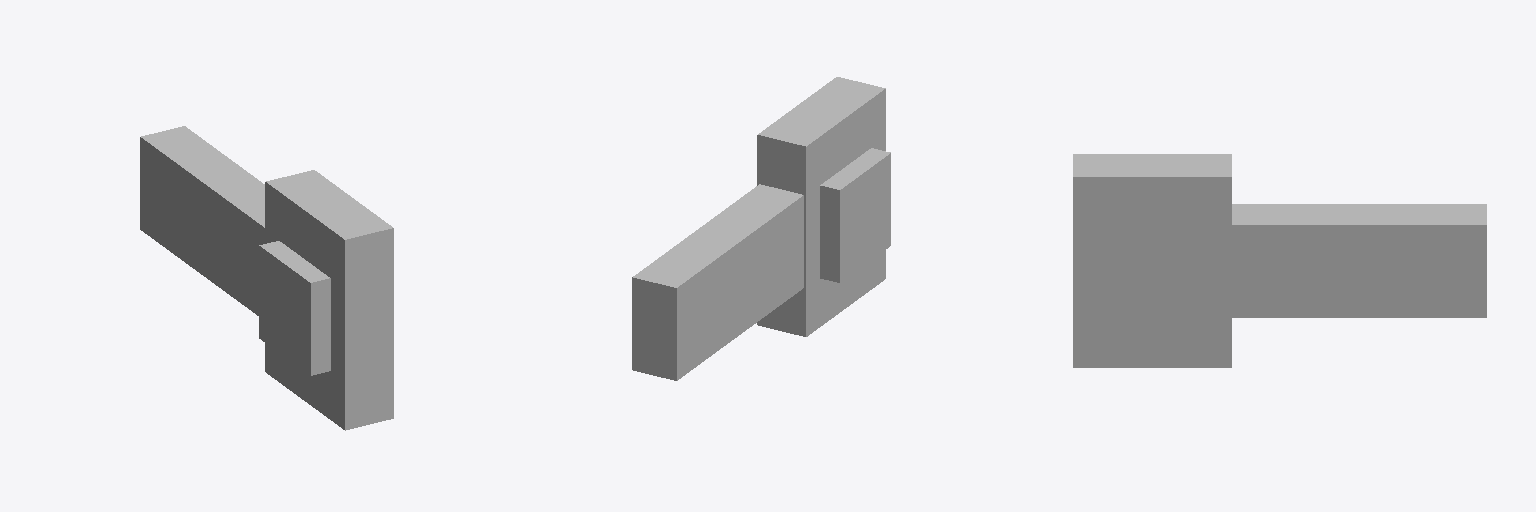
Rendered from left_p_rod.obj.
3 renders of one model, left to right at view 1: azimuth 30°, elevation 25°; view 2: azimuth 150°, elevation 25°; view 3: azimuth 270°, elevation 25°, orthographic.
Visible parts, largest first — view 1: Rod; view 2: Rod; view 3: Rod.
Part boxes in pixels (x1,y1,x2,y2): Rod: (140,126,393,430); Rod: (632,77,890,380); Rod: (1073,154,1486,367).
Bounding box in the file's own units: 0.1938 × 0.5125 × 1.01.